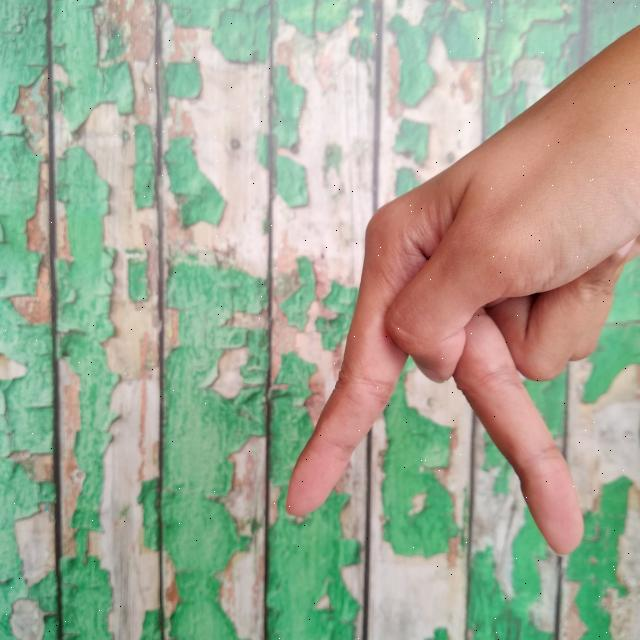P: (279, 15, 640, 556)
